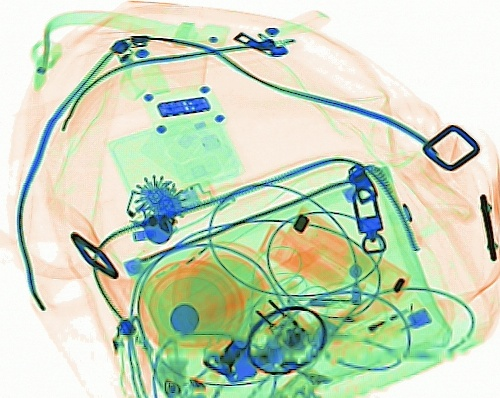lighter: (326, 305, 432, 362)
